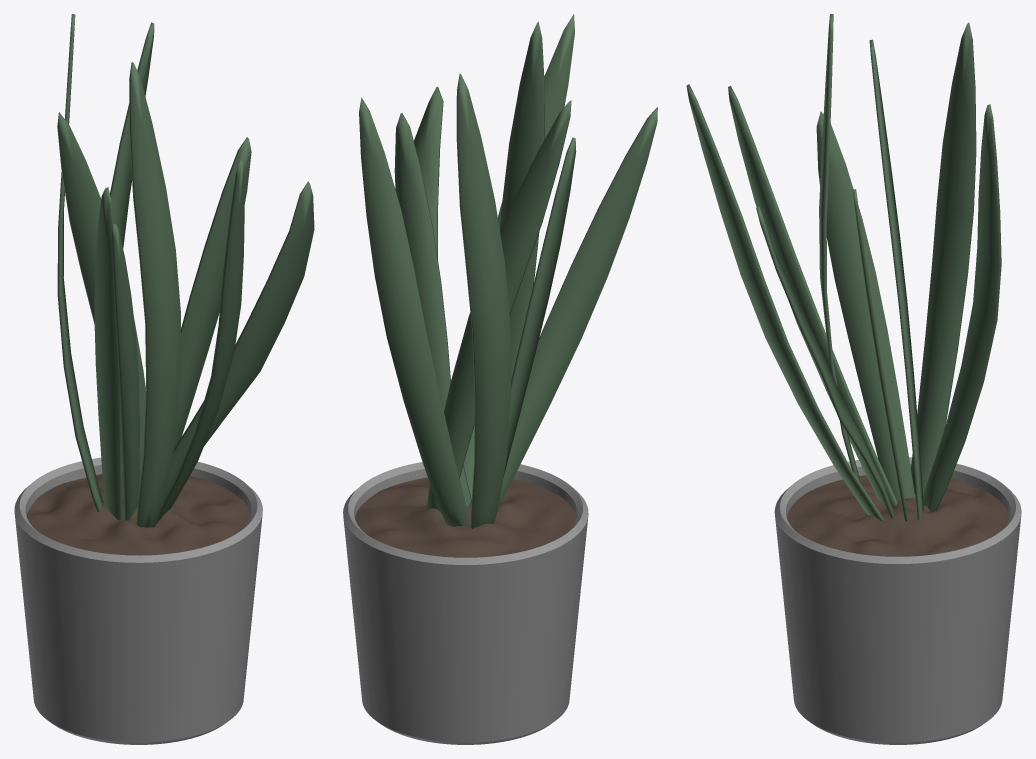
The model's file is 4anxt_Plant1.fbx.
3 renders of one model, left to right at view 1: azimuth 30°, elevation 25°; view 2: azimuth 150°, elevation 25°; view 3: azimuth 270°, elevation 25°, orthographic.
Visible parts, largest first — view 1: Pot.009; view 2: Pot.009; view 3: Pot.009.
Part boxes in pixels (x1,y1,x2,y2): Pot.009: (14,14,314,744); Pot.009: (343,14,657,744); Pot.009: (686,14,1021,744).
Size of the model in its own units: 16.6 by 47.23 by 21.4.
